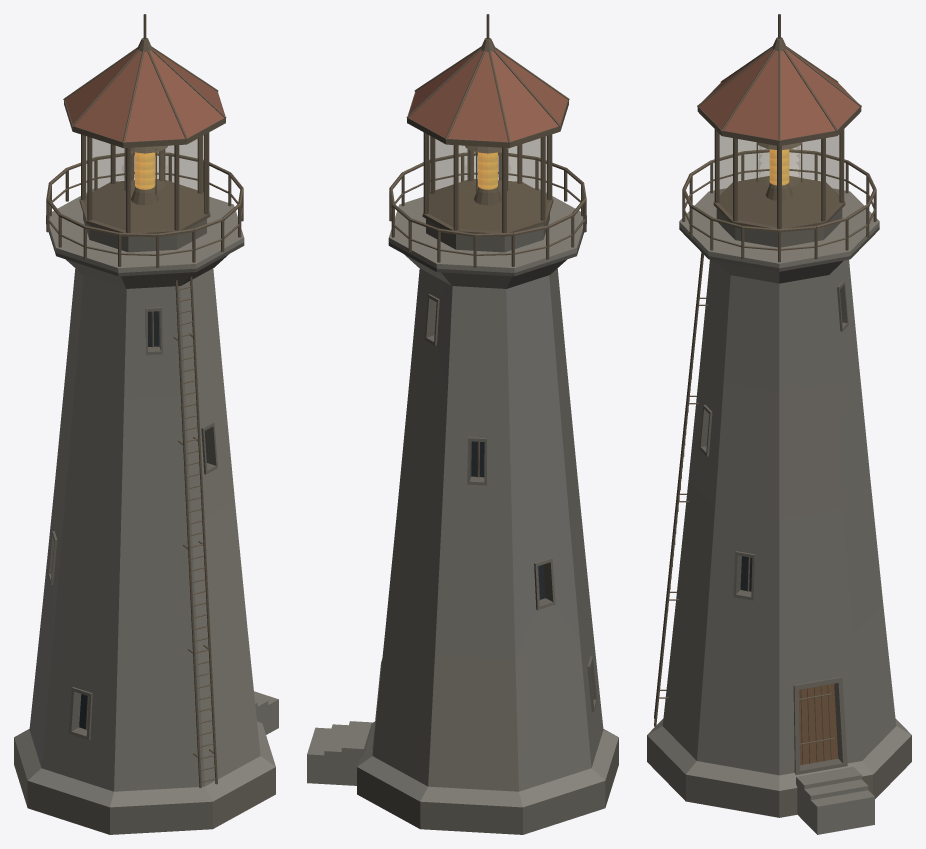
File: lighthouse.glb
3 renders of one model, left to right at view 1: azimuth 30°, elevation 25°; view 2: azimuth 150°, elevation 25°; view 3: azimuth 270°, elevation 25°, orthographic. The views are drawn at different scales.
Visible parts, largest first — view 1: Opaque_Limestone 1, Opaque_Limestone 0, Opaque_Limestone 2, Opaque_Dark forged bronze, Opaque_Weathered sandstone edges, Opaque_Oxidised terracotta roof, Opaque_Limestone 3, Lantern glazed panel 5, Lantern glazed panel 4, Opaque_Deep weathered gallery corbel stone, Lantern glazed panel 6, Lantern glazed panel 0 (+3 smaller); view 2: Opaque_Limestone 2, Opaque_Limestone 1, Opaque_Limestone 3, Opaque_Dark forged bronze, Opaque_Weathered sandstone edges, Opaque_Oxidised terracotta roof, Opaque_Limestone 0, Lantern glazed panel 2, Lantern glazed panel 3, Opaque_Deep weathered gallery corbel stone, Lantern glazed panel 1, Lantern glazed panel 7 (+3 smaller); view 3: Opaque_Limestone 3, Opaque_Limestone 0, Opaque_Limestone 1, Opaque_Limestone 2, Opaque_Dark forged bronze, Opaque_Weathered sandstone edges, Opaque_Oxidised terracotta roof, Lantern glazed panel 0, Lantern glazed panel 7, Opaque_Oak door boards, Opaque_Deep weathered gallery corbel stone, Lantern glazed panel 1 (+6 smaller).
Part boxes in pixels (x1,y1,x2,y2): Opaque_Limestone 1: (14, 286, 278, 807); Opaque_Limestone 0: (41, 275, 126, 791); Opaque_Limestone 2: (46, 188, 260, 786); Opaque_Dark forged bronze: (46, 14, 243, 787); Opaque_Weathered sandstone edges: (14, 213, 275, 834); Opaque_Oxidised terracotta roof: (65, 49, 224, 142); Opaque_Limestone 3: (29, 268, 83, 767); Lantern glazed panel 5: (131, 145, 174, 230); Lantern glazed panel 4: (91, 138, 125, 229); Opaque_Deep weathered gallery corbel stone: (46, 221, 244, 288); Lantern glazed panel 6: (179, 134, 205, 226); Lantern glazed panel 0: (166, 140, 196, 189); Opaque_Limestone 2: (388, 188, 586, 791); Opaque_Limestone 1: (307, 268, 618, 807); Opaque_Limestone 3: (506, 275, 591, 791); Opaque_Dark forged bronze: (389, 14, 586, 600); Opaque_Weathered sandstone edges: (357, 213, 618, 834); Opaque_Oxidised terracotta roof: (408, 49, 567, 142); Opaque_Limestone 0: (549, 268, 603, 767); Lantern glazed panel 2: (458, 145, 501, 230); Lantern glazed panel 3: (507, 138, 541, 229); Opaque_Deep weathered gallery corbel stone: (388, 221, 586, 288); Lantern glazed panel 1: (427, 134, 453, 226); Lantern glazed panel 7: (436, 140, 466, 189); Opaque_Limestone 3: (697, 275, 779, 775); Opaque_Limestone 0: (779, 275, 861, 775); Opaque_Limestone 1: (647, 259, 911, 834); Opaque_Limestone 2: (662, 188, 879, 760); Opaque_Dark forged bronze: (654, 14, 876, 764); Opaque_Weathered sandstone edges: (647, 208, 911, 817); Opaque_Oxidised terracotta roof: (699, 49, 859, 140); Lantern glazed panel 0: (782, 139, 821, 226); Lantern glazed panel 7: (737, 139, 776, 226); Opaque_Oak door boards: (798, 683, 838, 765); Opaque_Deep weathered gallery corbel stone: (679, 226, 879, 283); Lantern glazed panel 1: (826, 132, 841, 216).
Size of the model in its own units: 9.26 by 25 by 8.03.
